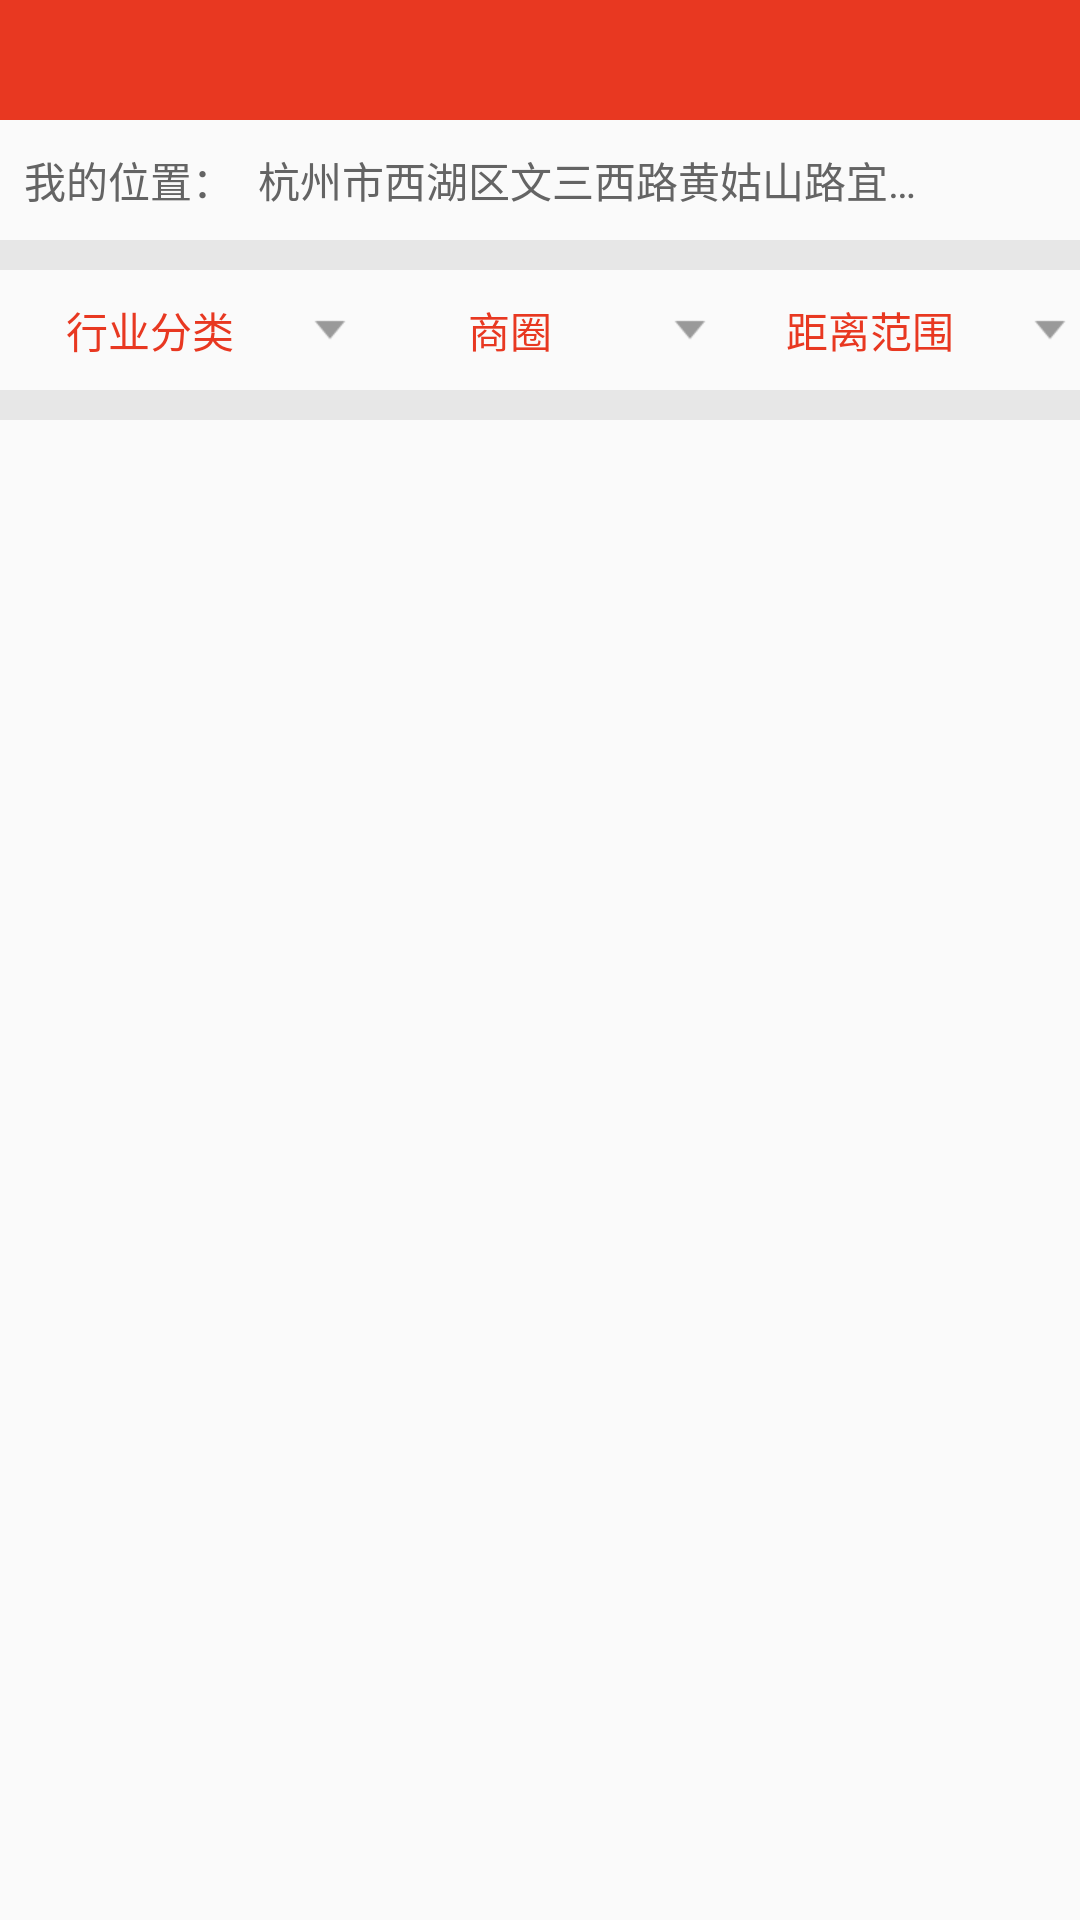

Named icons in this screenshot (1080x1920) and their centers, point (x, y):
nearbyshop fittler unslect: point (330, 330), point (690, 330), point (1050, 330)
